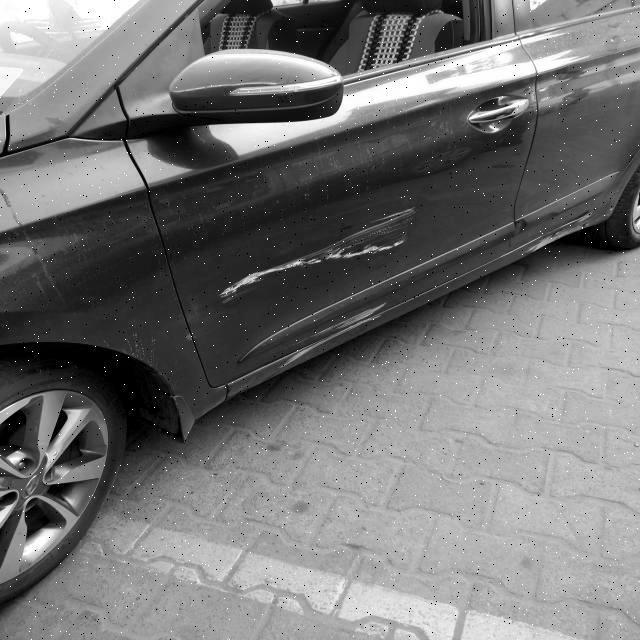doorouter-dent: (195, 111, 522, 388)
